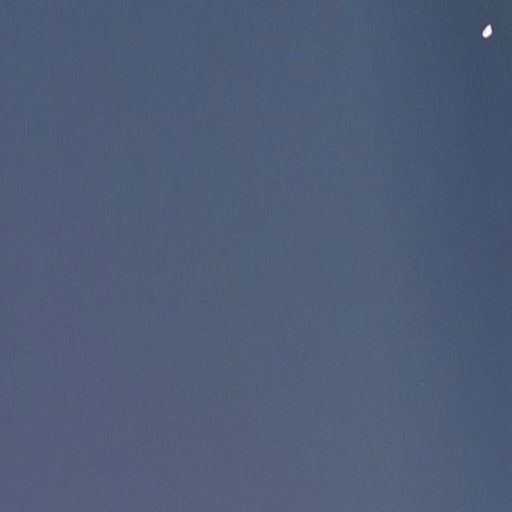ship: (483, 23, 492, 39)
